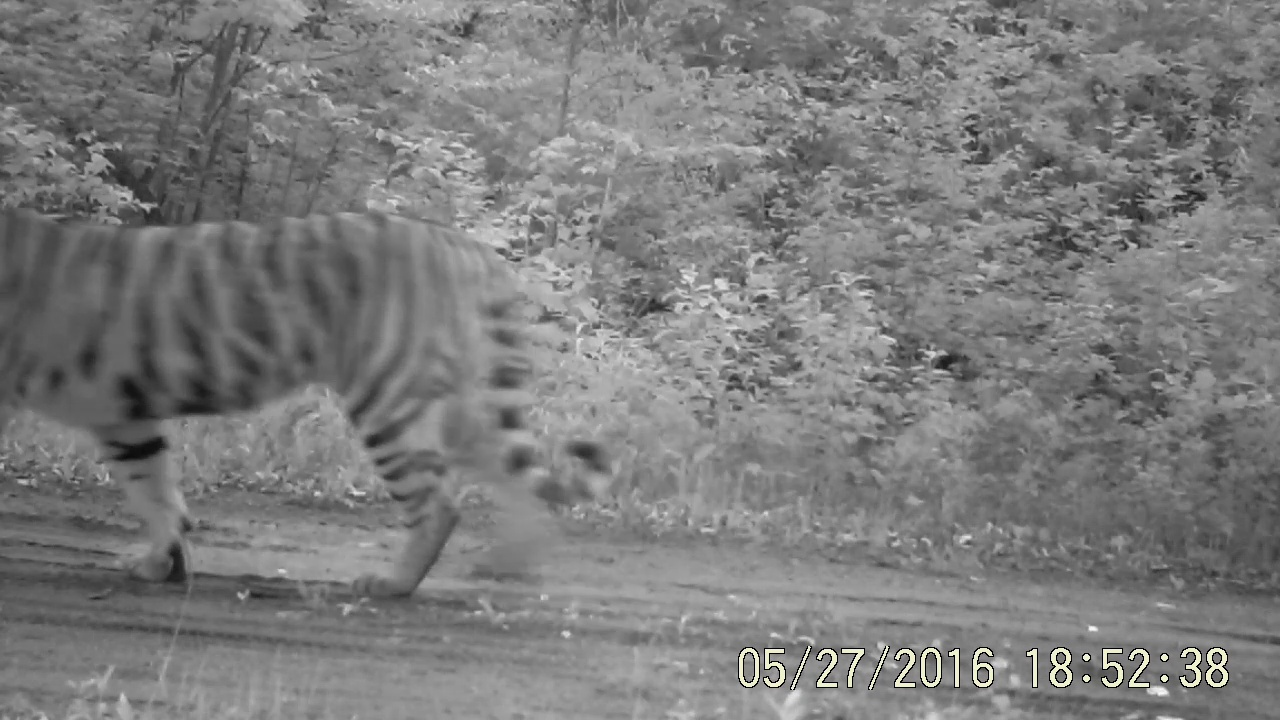Tiger: (2, 76, 632, 650)
